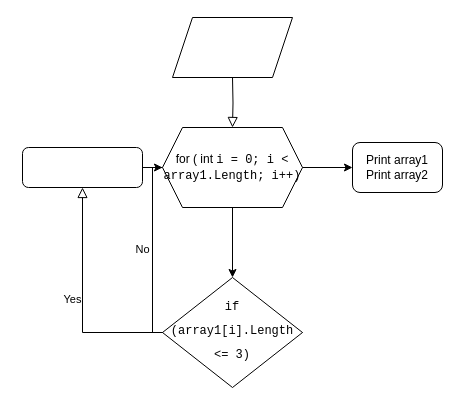
Image size: 460x405. Some labels were removed from this diagram. Each missing label, with the centre of its shape:
array1 array2 count = 0: [232,47]
array2[count] = array1[i]; count++: [82,167]
